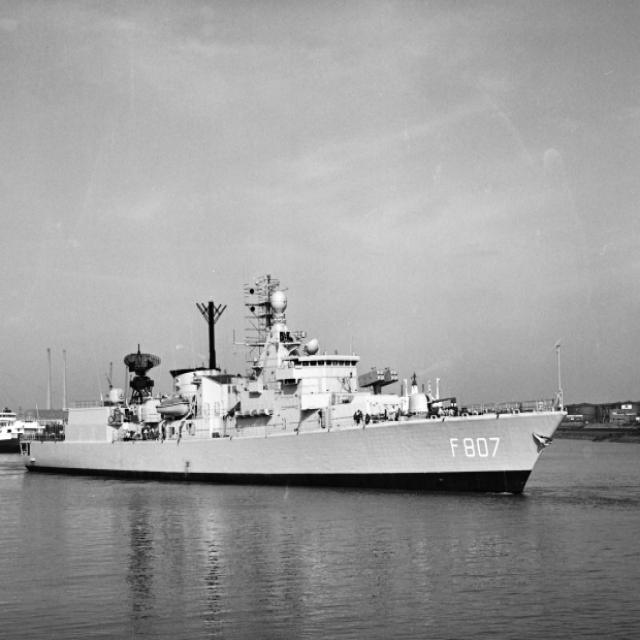Fragata: (17, 278, 578, 503)
